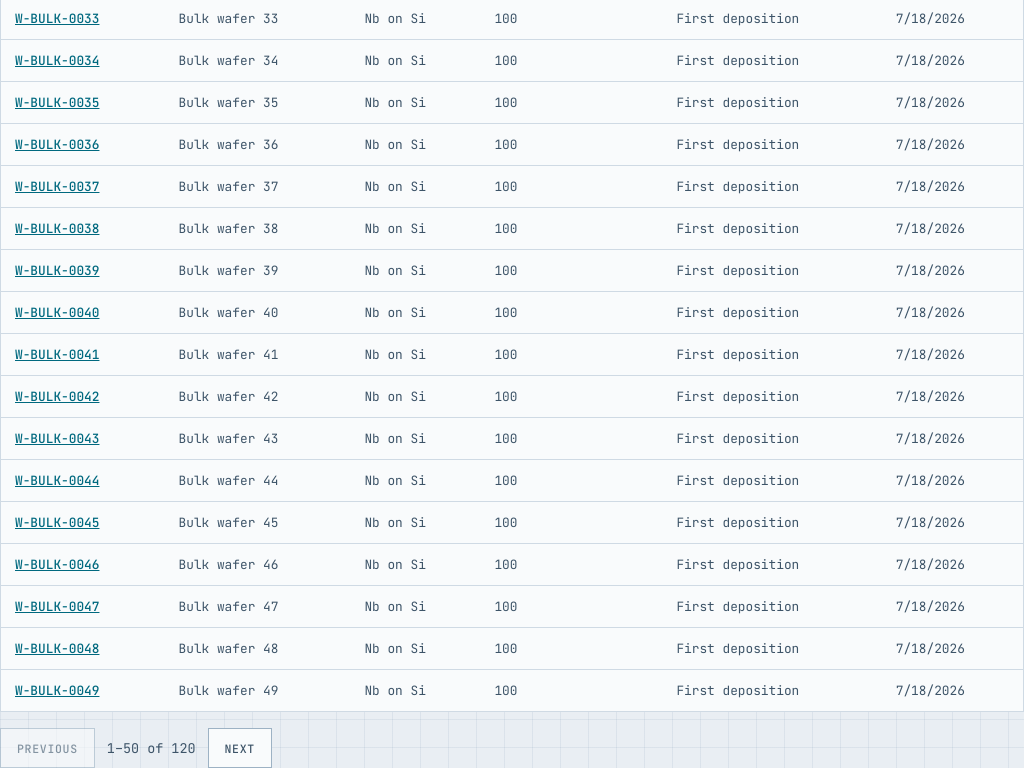
BrowseListPage › pages forward and backward through server pages
(page scrolled)
Check: the text "1–50 of 120" is shown, box [107,739,196,757]
Check: the button "Previous" is disabled, box [0,728,95,767]
What coordinates should you click on to do the following:
click the button "Next"
I would click on:
 (240, 748)
Its box is [208,728,272,767].
(page scrolled)
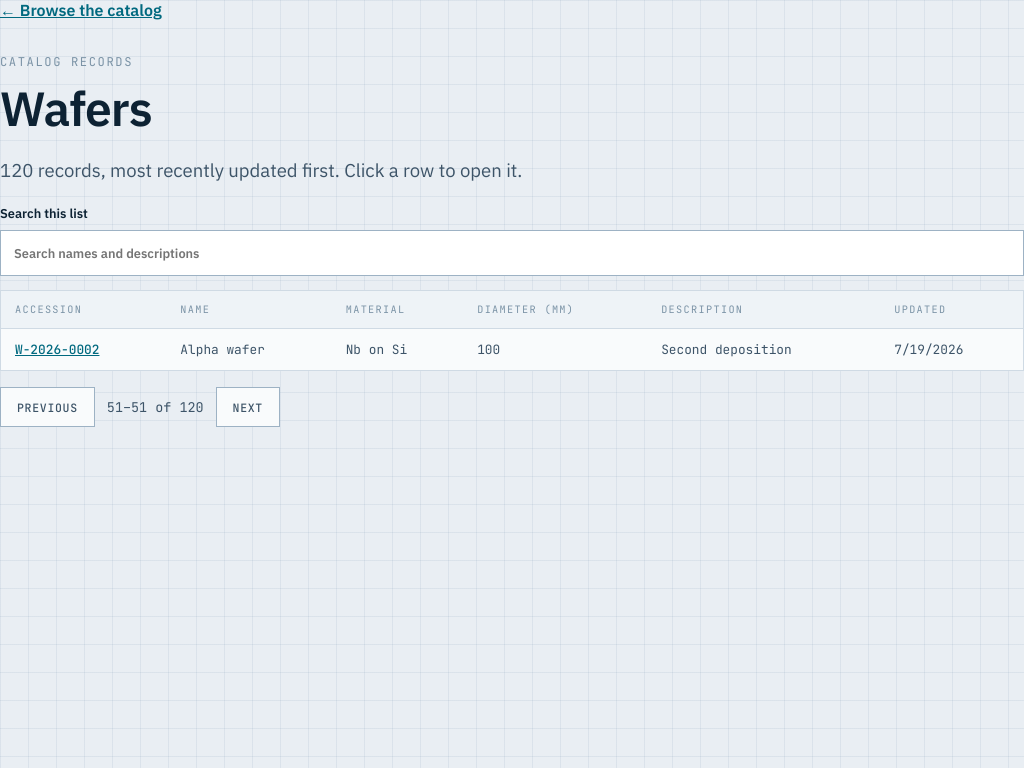
Check: the link "W-2026-0002" is shown, box [15,341,100,358]
Check: the text "51–51 of 120" is shown, box [107,398,204,416]
